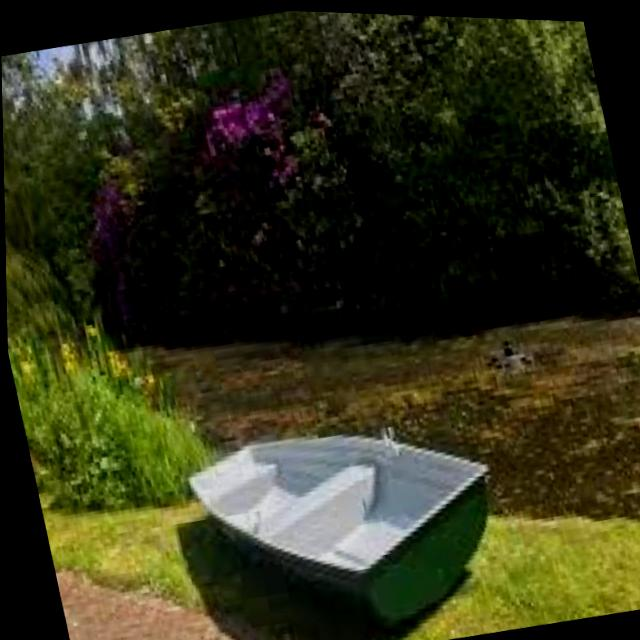ship2: (185, 434, 489, 631)
